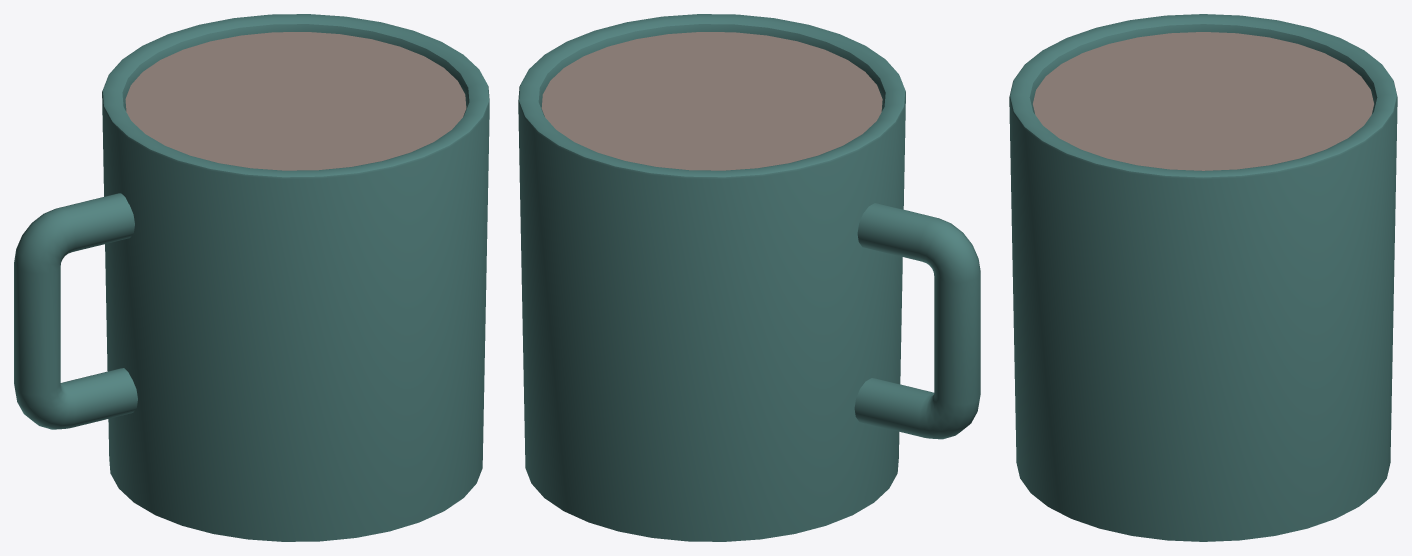
The model's file is Latte.fbx.
The picture shows the model from 3 angles, left to right: view 1: azimuth 30°, elevation 25°; view 2: azimuth 150°, elevation 25°; view 3: azimuth 270°, elevation 25°; orthographic projection.
Visible parts, largest first — view 1: Taza, Cafe con leche; view 2: Taza, Cafe con leche; view 3: Taza, Cafe con leche.
Boxes of the visible parts, x1,y1,x2,y2 form: Taza: [14, 14, 489, 541]; Cafe con leche: [125, 32, 466, 170]; Taza: [518, 14, 980, 541]; Cafe con leche: [541, 32, 882, 170]; Taza: [1009, 14, 1397, 541]; Cafe con leche: [1033, 32, 1373, 170].
Size of the model in its own units: 6.49 by 5.19 by 4.96.
